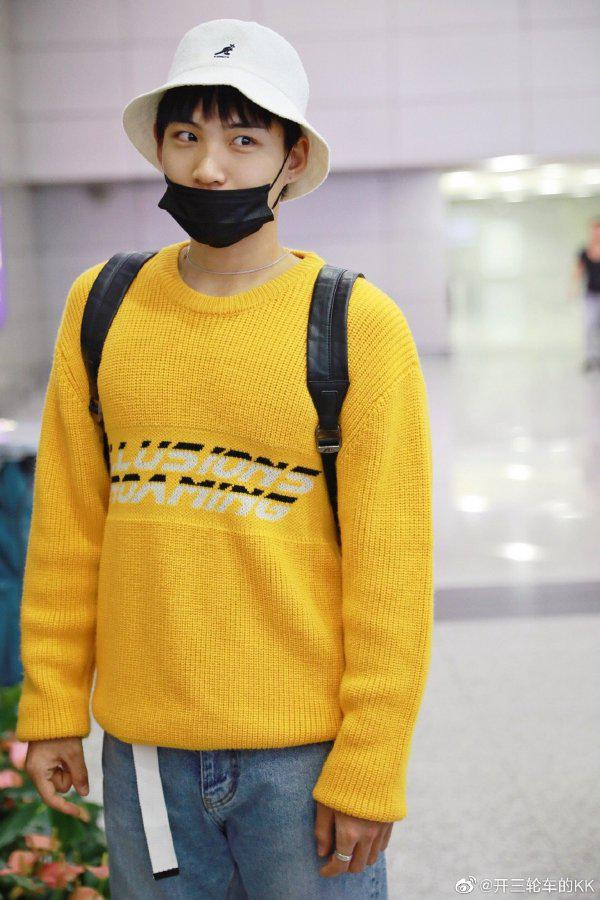WRONG: (160, 110, 284, 250)
